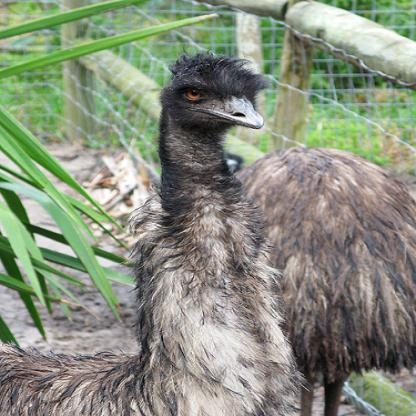bird: (0, 51, 302, 415), (232, 146, 415, 415)
